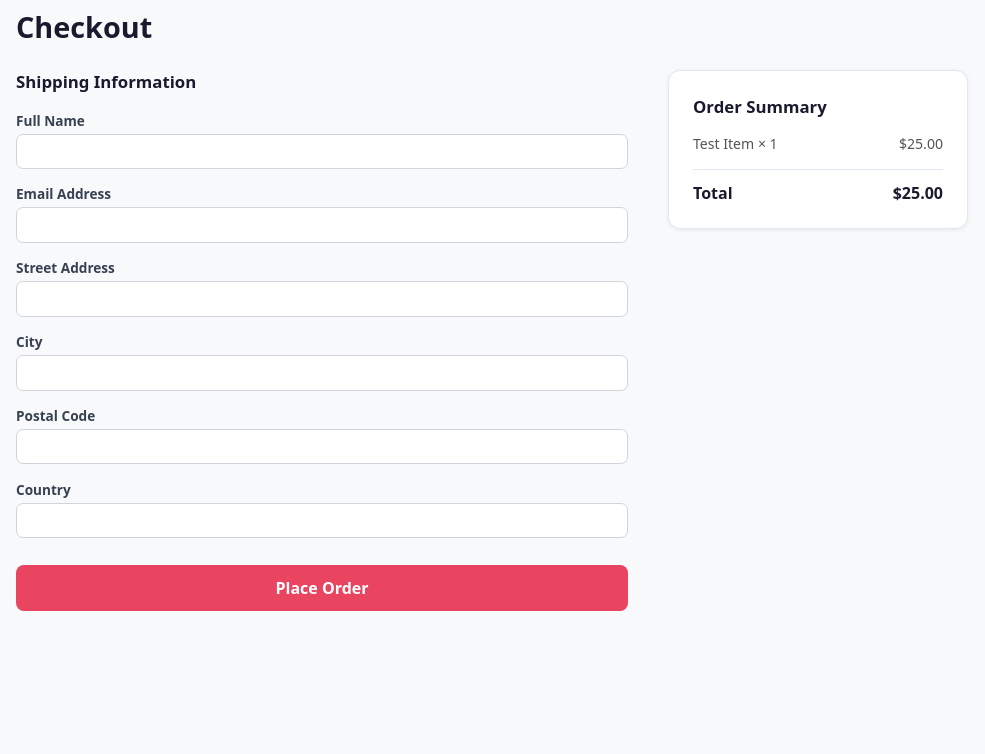
Scenario: Checkout › clears field error when user starts typing
Click the button "Place Order" at (322, 588), box [16, 565, 628, 611]
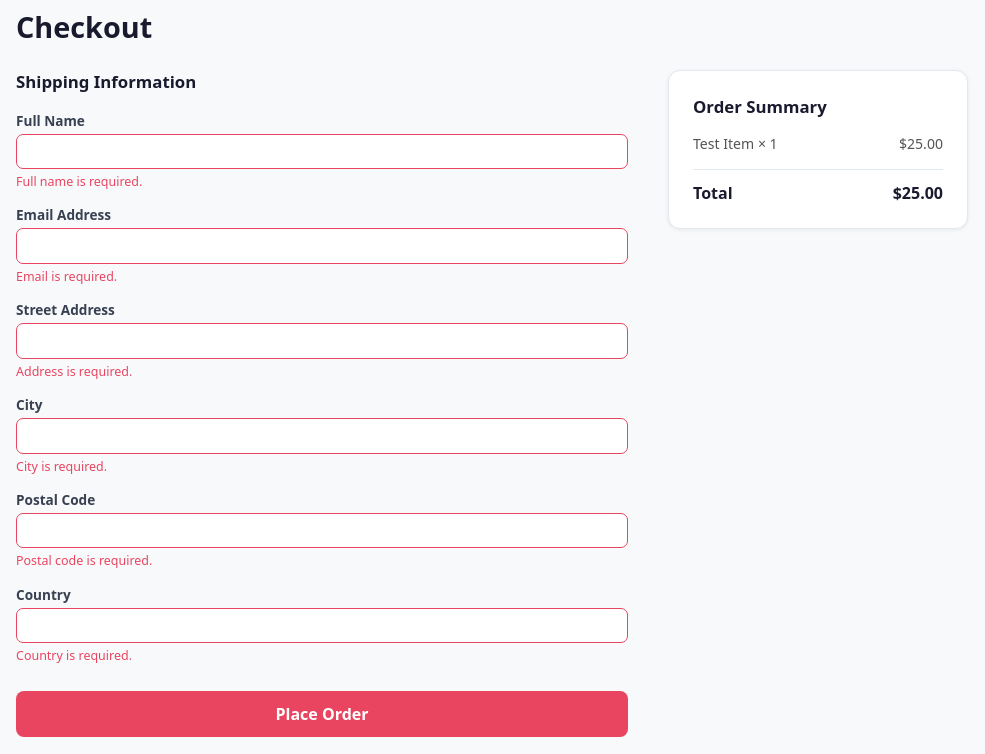
Expected: the text "Full name is required." is shown, [16, 173, 142, 190]
Type "Alice" into the field with id "fullName" at (322, 151), box [16, 134, 628, 169]
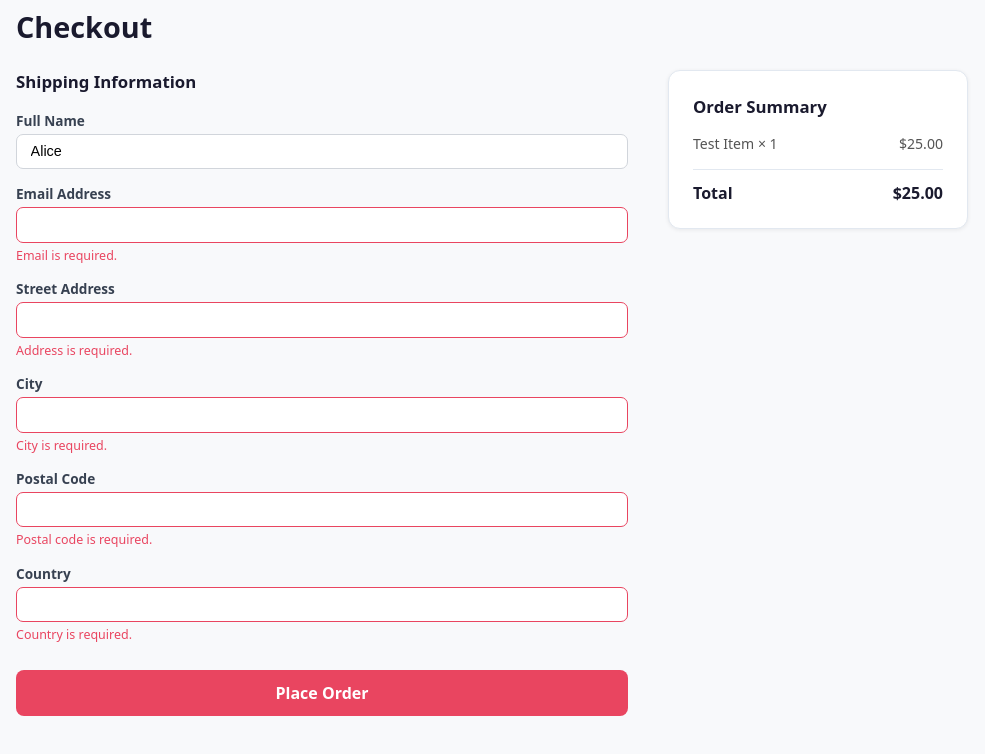
Expected: the text "Full name is required." is gone
